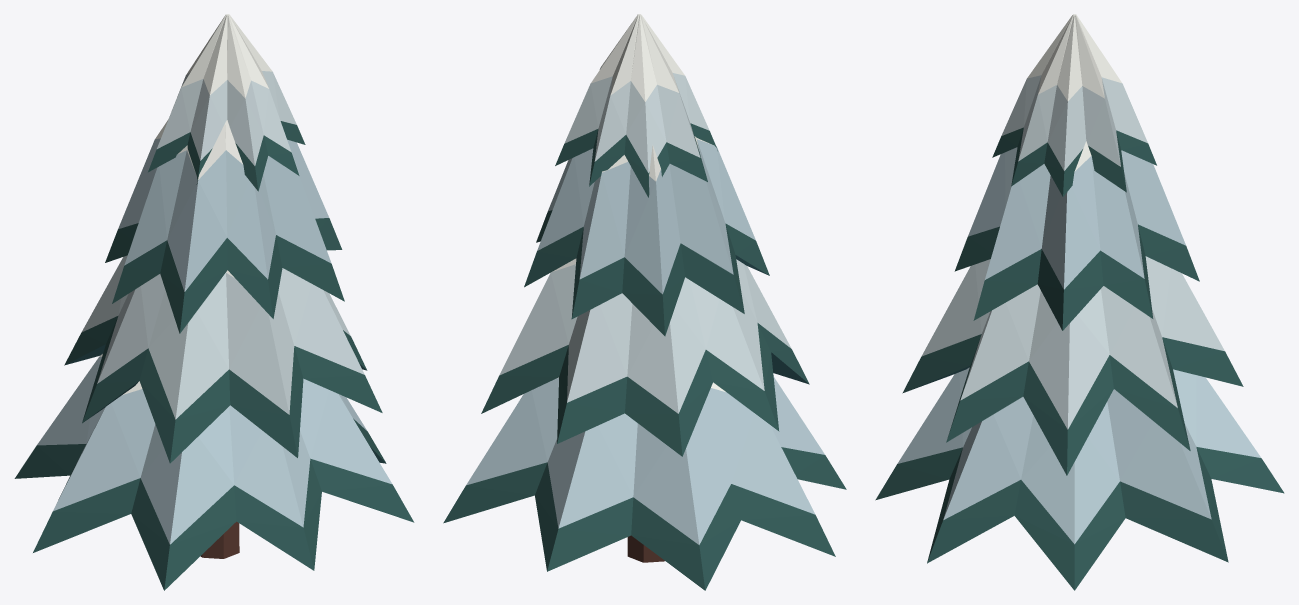
File: SpruceBroad.fbx
3 views of the same model, side by side, from view 1: azimuth 30°, elevation 25°; view 2: azimuth 150°, elevation 25°; view 3: azimuth 270°, elevation 25° (orthographic).
Parts seen in each view (by area): view 1: SpruceBroad; view 2: SpruceBroad; view 3: SpruceBroad.
Boxes of the visible parts, bbox=[...] form: SpruceBroad: bbox=[14, 14, 414, 590]; SpruceBroad: bbox=[443, 14, 846, 590]; SpruceBroad: bbox=[875, 14, 1284, 590].
Bounding box in the file's own units: 2.86 × 4.1 × 2.81.
1 material, 1 textured.
